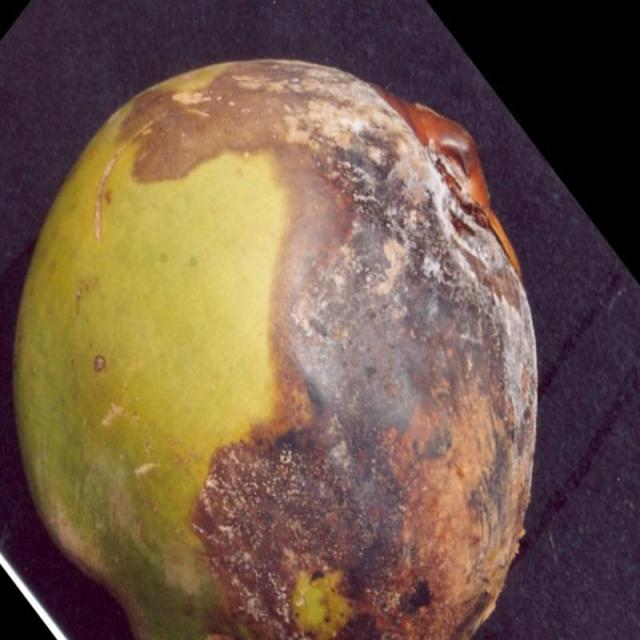damaged: (14, 60, 536, 639)
